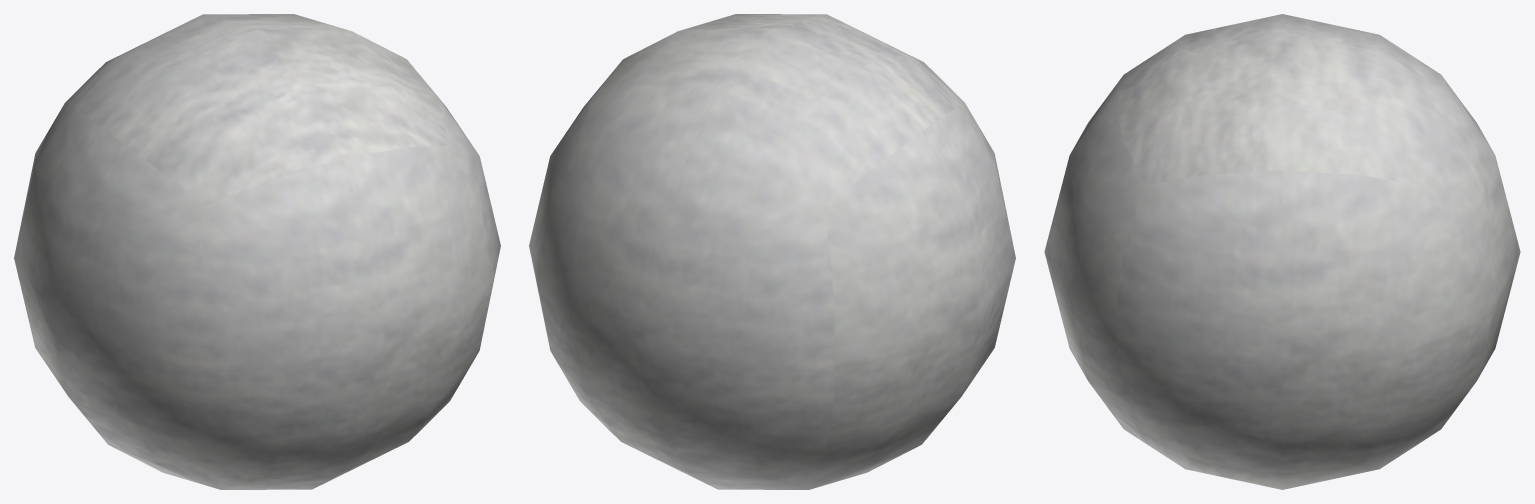
Rendered from snowball.fbx.
The picture shows the model from 3 angles, left to right: view 1: azimuth 30°, elevation 25°; view 2: azimuth 150°, elevation 25°; view 3: azimuth 270°, elevation 25°; orthographic projection. The views are drawn at different scales.
Parts seen in each view (by area): view 1: Snowball.001; view 2: Snowball.001; view 3: Snowball.001.
Part boxes in pixels (x1,y1,x2,y2): Snowball.001: (14,14,500,489); Snowball.001: (529,14,1015,489); Snowball.001: (1044,14,1520,489).
Bounding box in the file's own units: 2.63 × 2.63 × 2.63.
